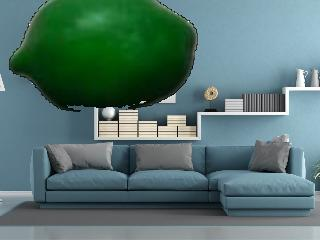lime: (9, 0, 198, 114)
